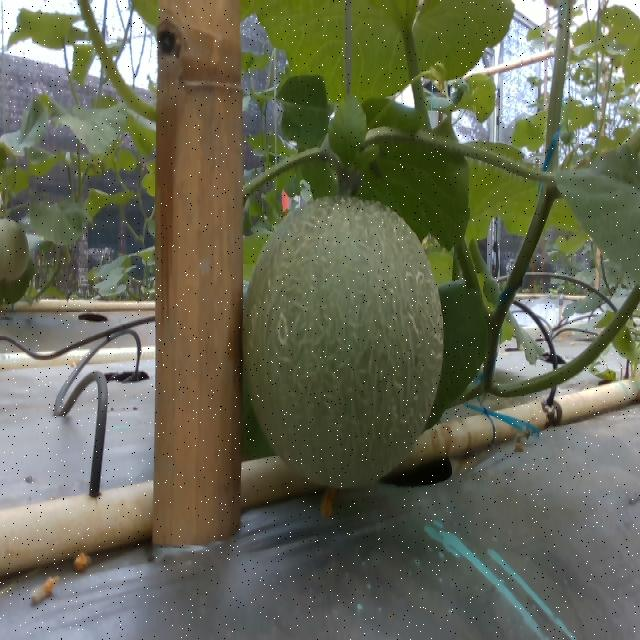melon: (244, 199, 444, 487)
